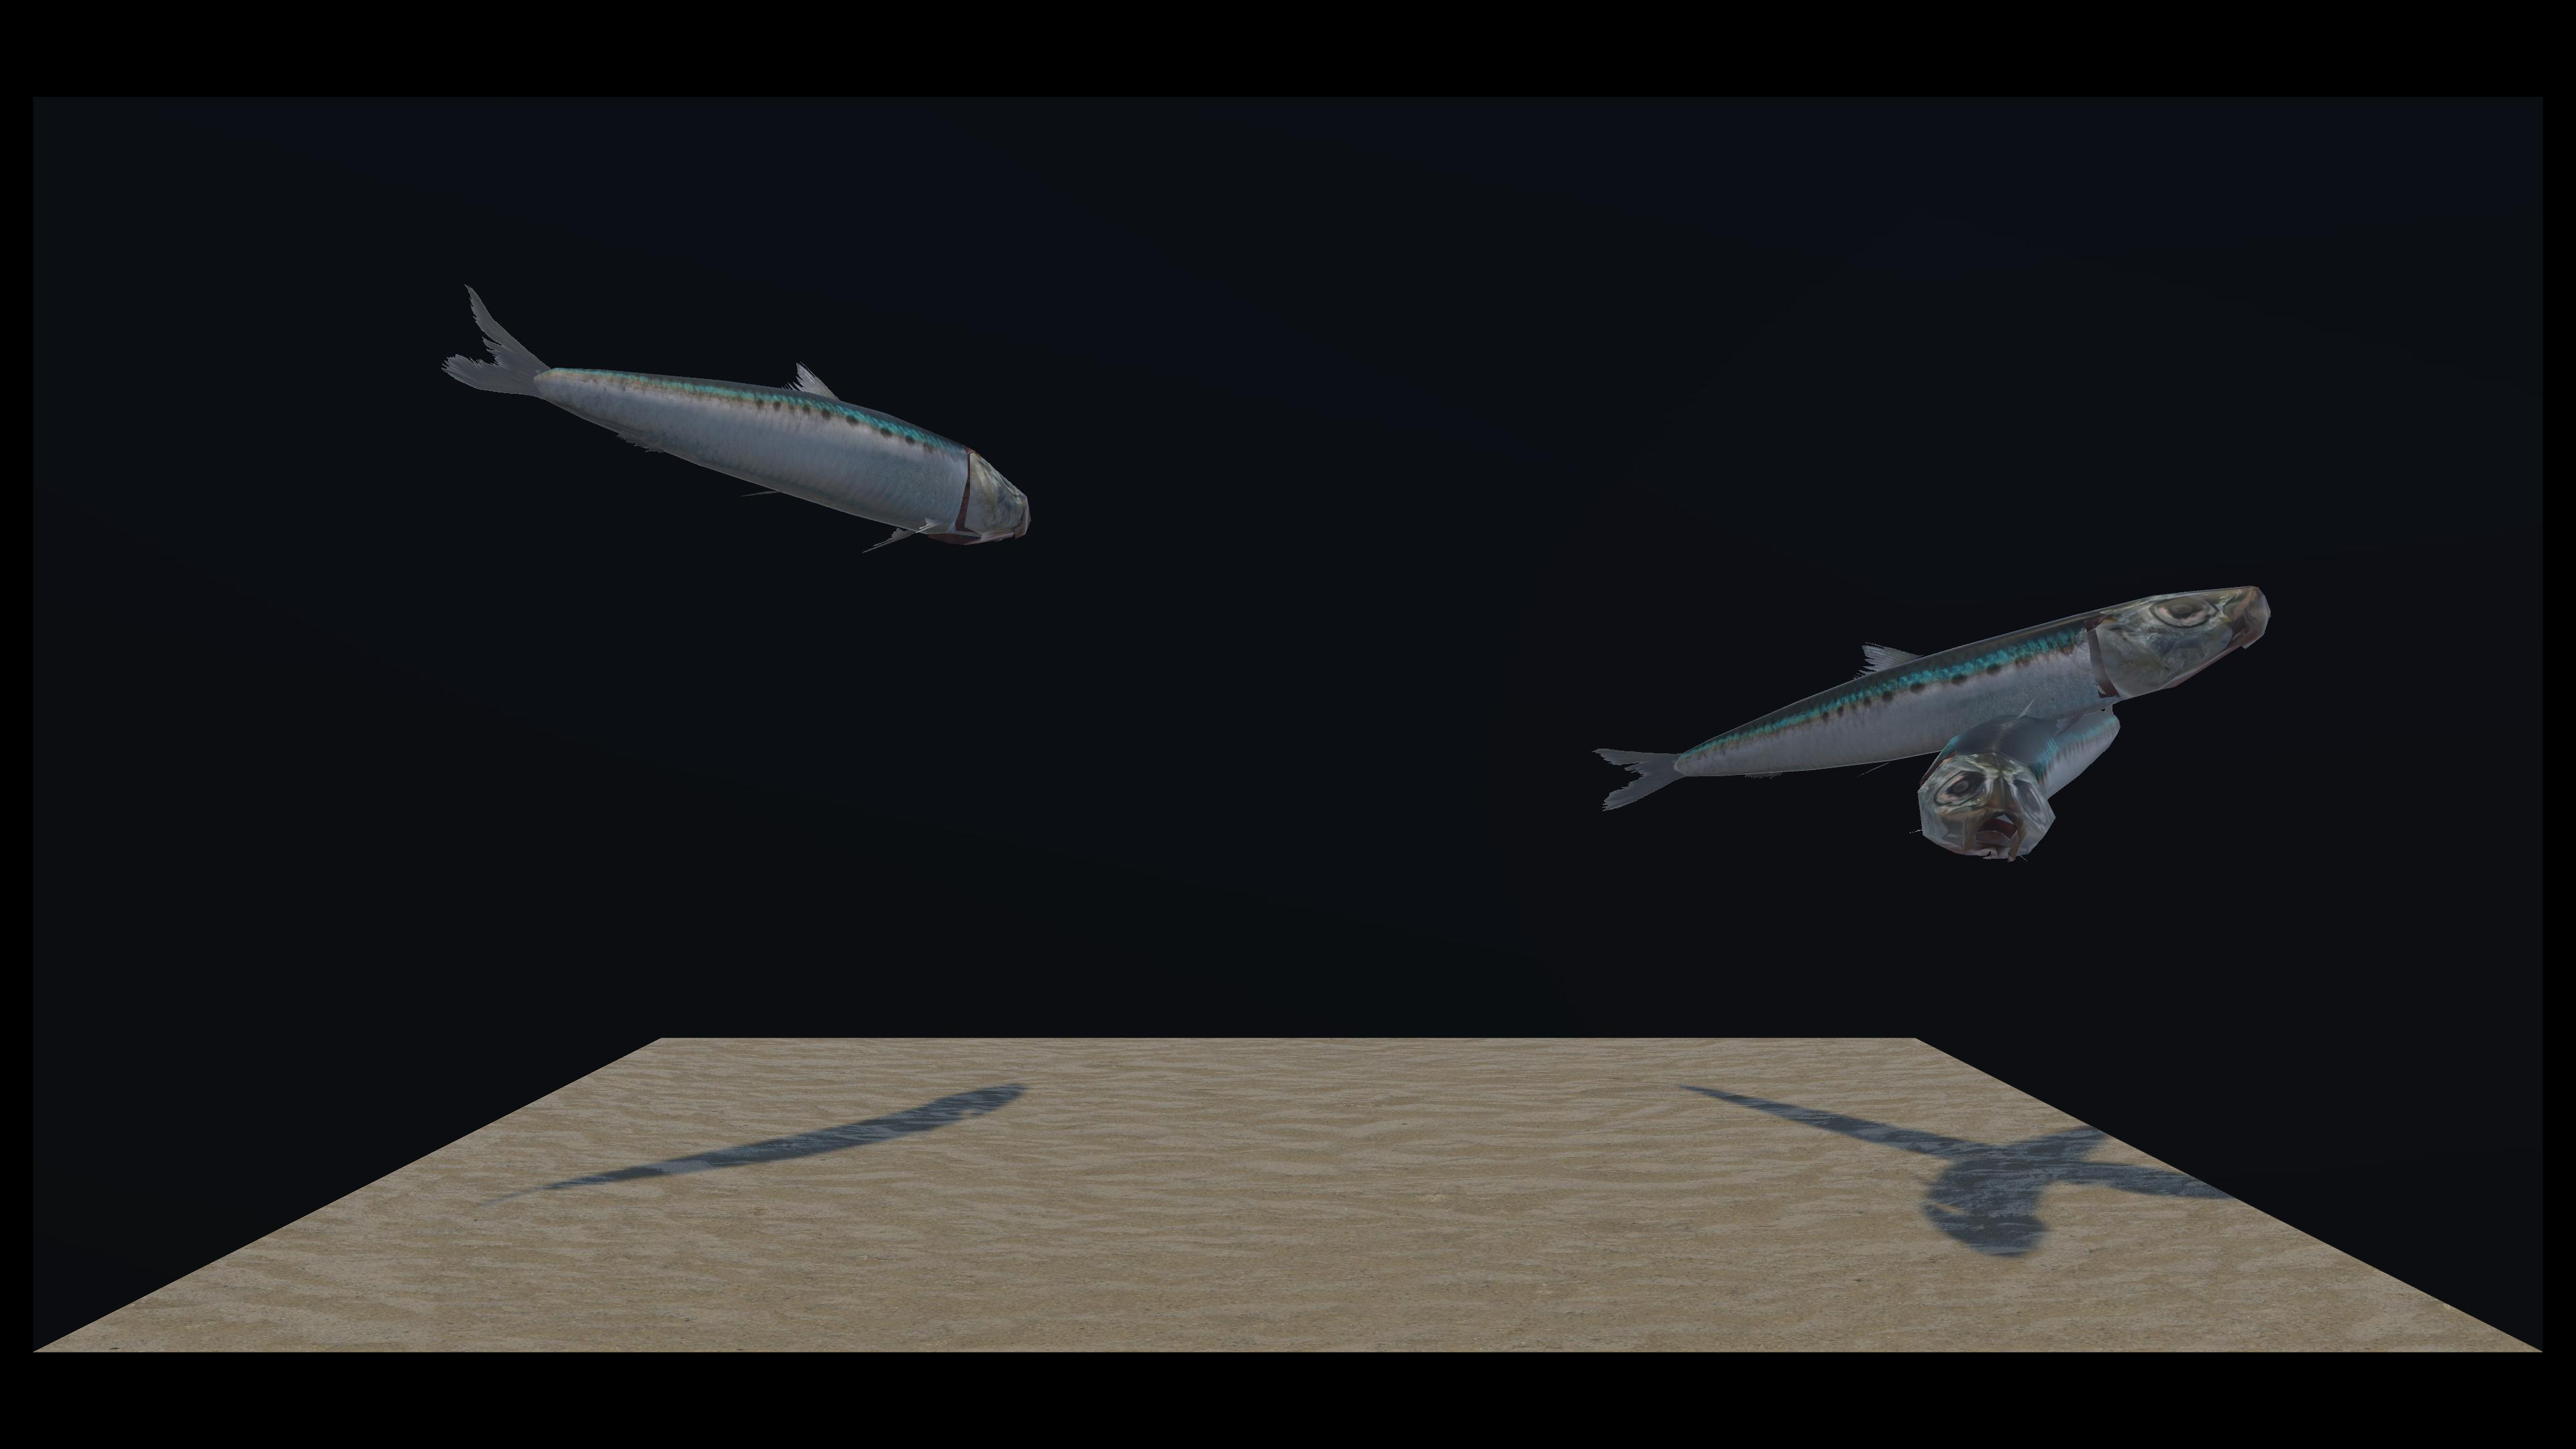Sardine_Front: (933, 464, 2110, 869), (1005, 502, 2248, 810), (446, 290, 1020, 557)
